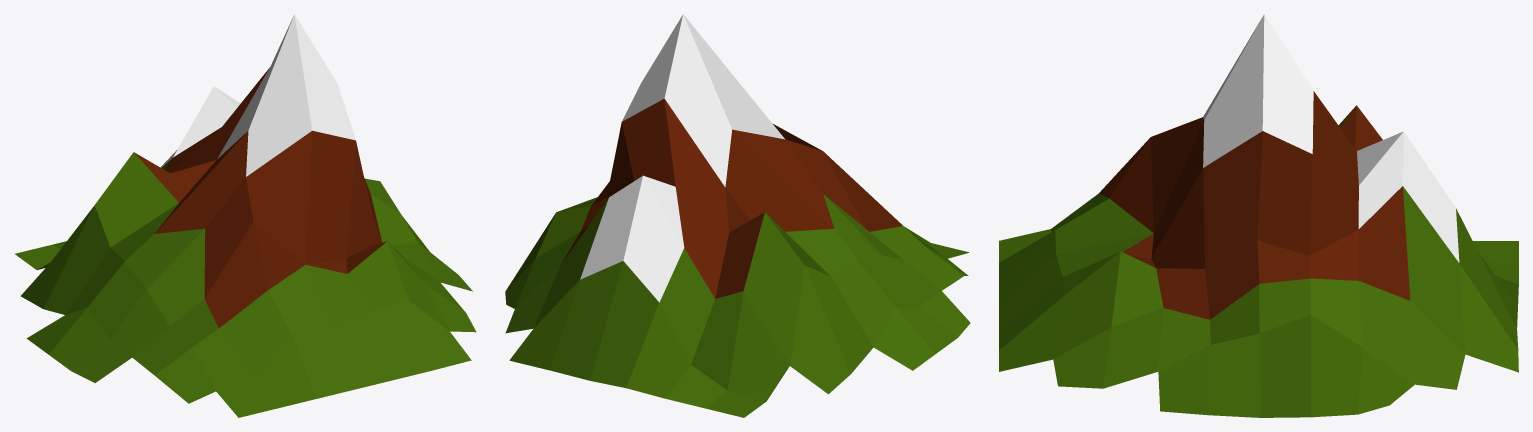
The model's file is vouno.fbx.
3 views of the same model, side by side, from view 1: azimuth 30°, elevation 25°; view 2: azimuth 150°, elevation 25°; view 3: azimuth 270°, elevation 25° (orthographic). The views are drawn at different scales.
Visible parts, largest first — view 1: vouno mou; view 2: vouno mou; view 3: vouno mou.
Boxes of the visible parts, x1=… form: vouno mou: x1=15, y1=14, x2=476, y2=417; vouno mou: x1=505, y1=14, x2=970, y2=417; vouno mou: x1=999, y1=14, x2=1518, y2=417.
Bounding box in the file's own units: 71.27 × 49.01 × 71.14.
